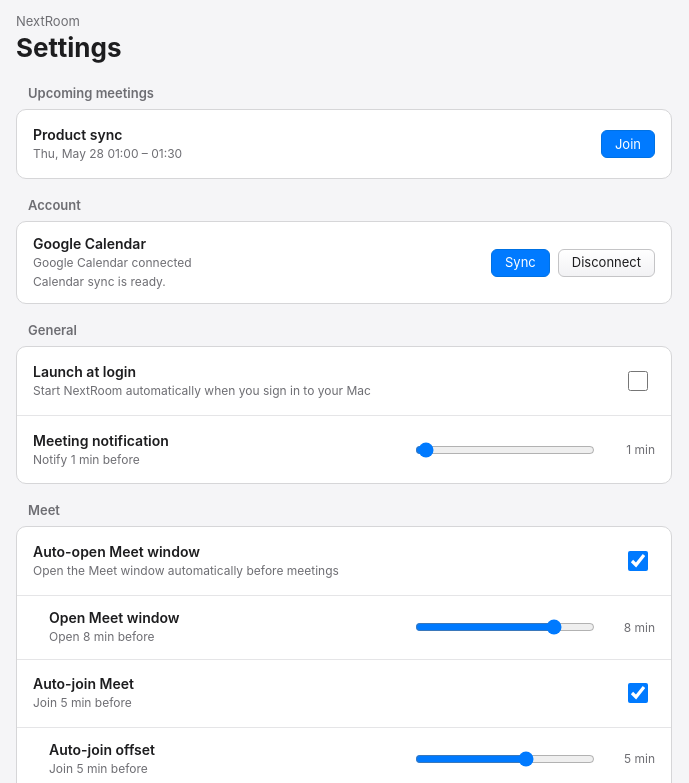
Test case: App › clamps the auto-join offset when the Meet window open offset is reduced
The image size is (689, 783).
Set the slider named "Meet window open offset" to "3" at (472, 628), box [415,620,595,636]
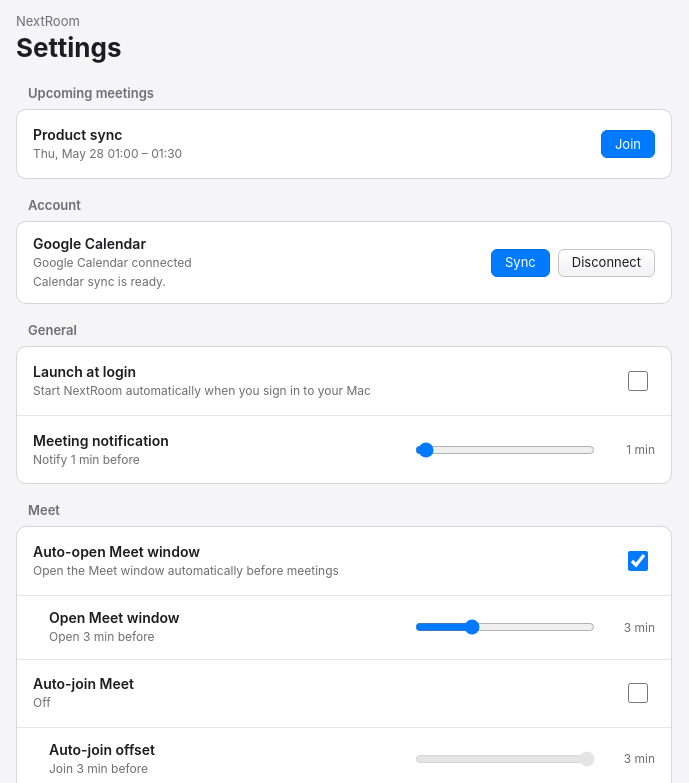
Result: the text "Join 3 min before" is shown at [49,761,148,776]
